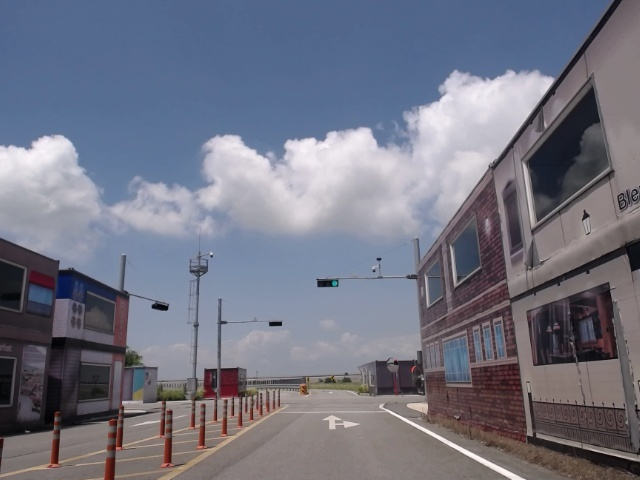green_3: (317, 280, 338, 287)
